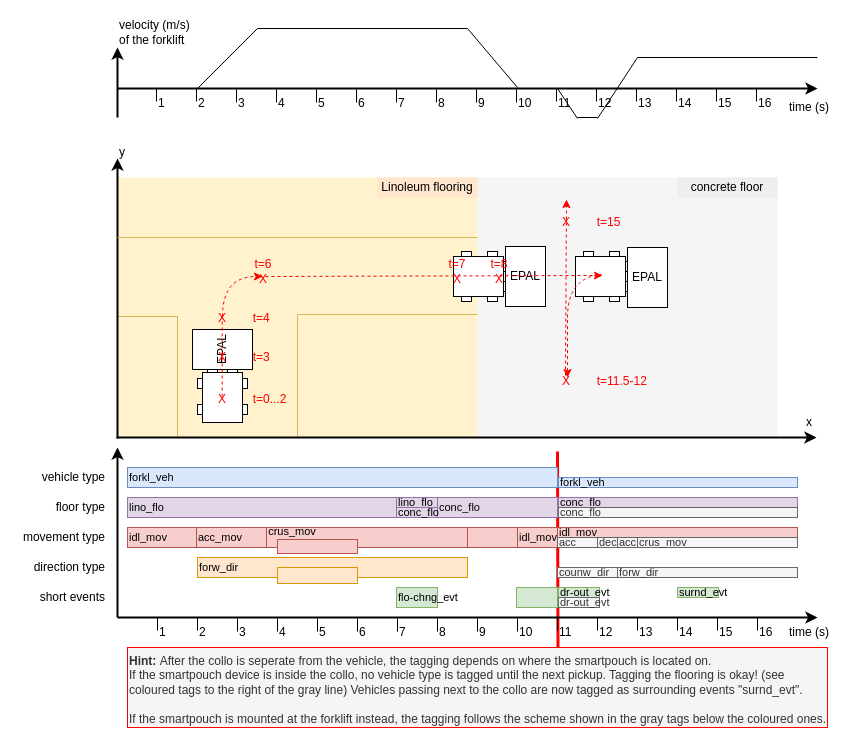
Some shapes in this 854 by 745 pixel diagram are drawn without their labels. The shapes that lost their labels are listed below. From the top down, each one's centre as x and y in pixels, then its label:
At point 600,276: "t=10 X".
At point 317,546: "turn_mov".
At point 492,537: "dec_mov".
At point 317,575: "clockw_dir".
At point 537,597: "dwn_dir".
